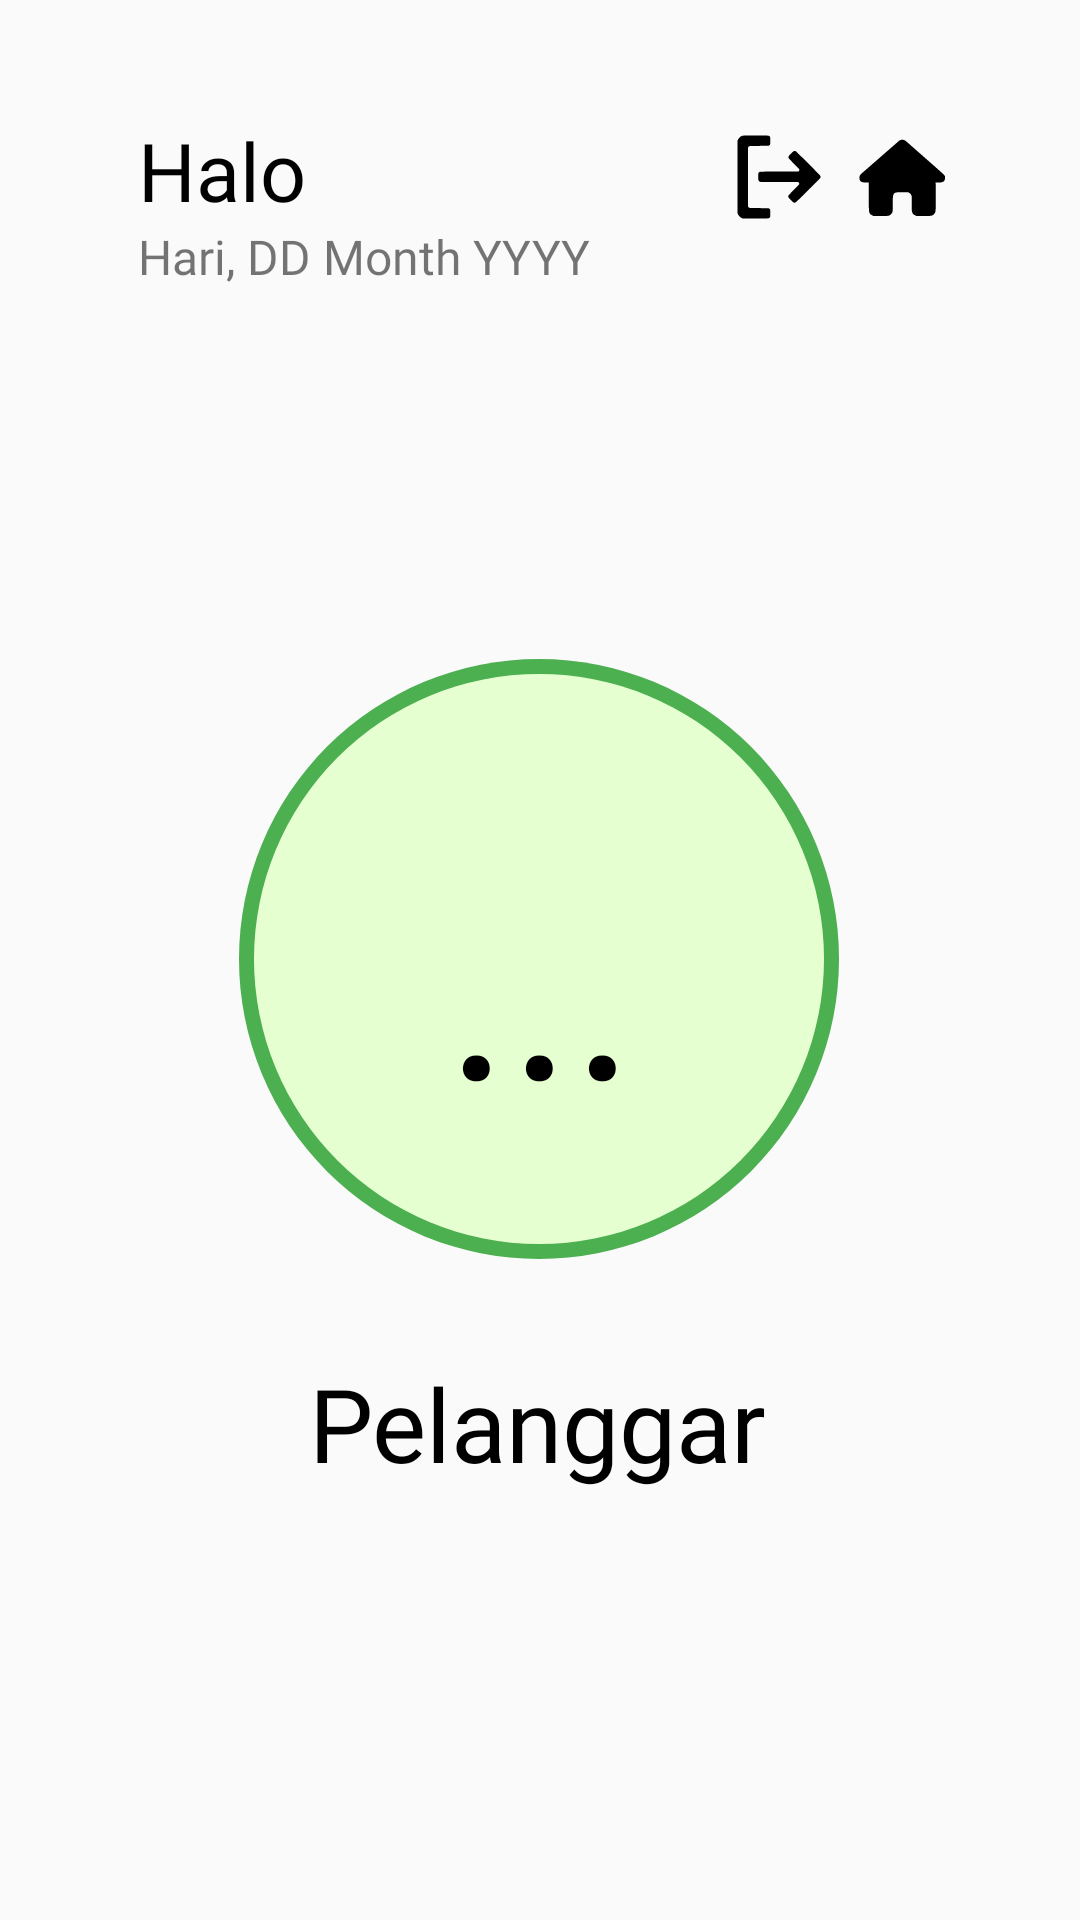

Screen size 1080×1920. Icon name, then its box in pixels as (x1, y1, x2, y2):
home: (859, 139, 945, 216)
